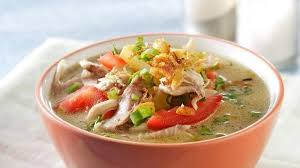soto: (36, 30, 281, 148)
